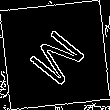M_SE: (21, 21, 89, 89)
